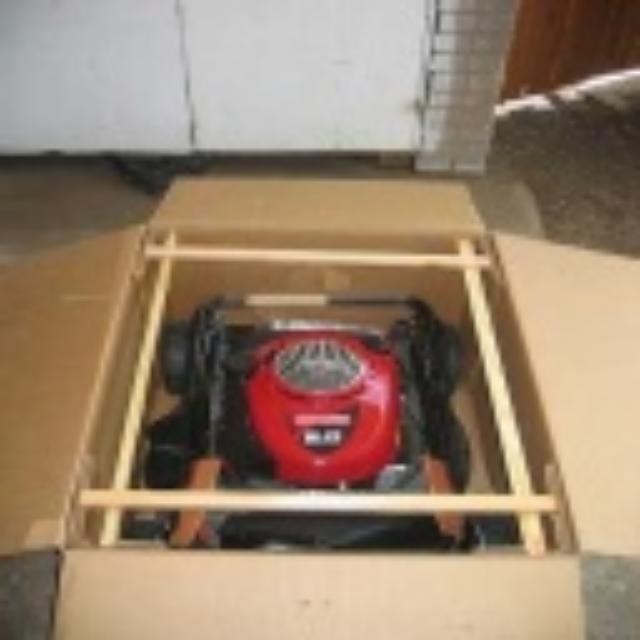Rotary-Mower: (145, 290, 475, 550)
